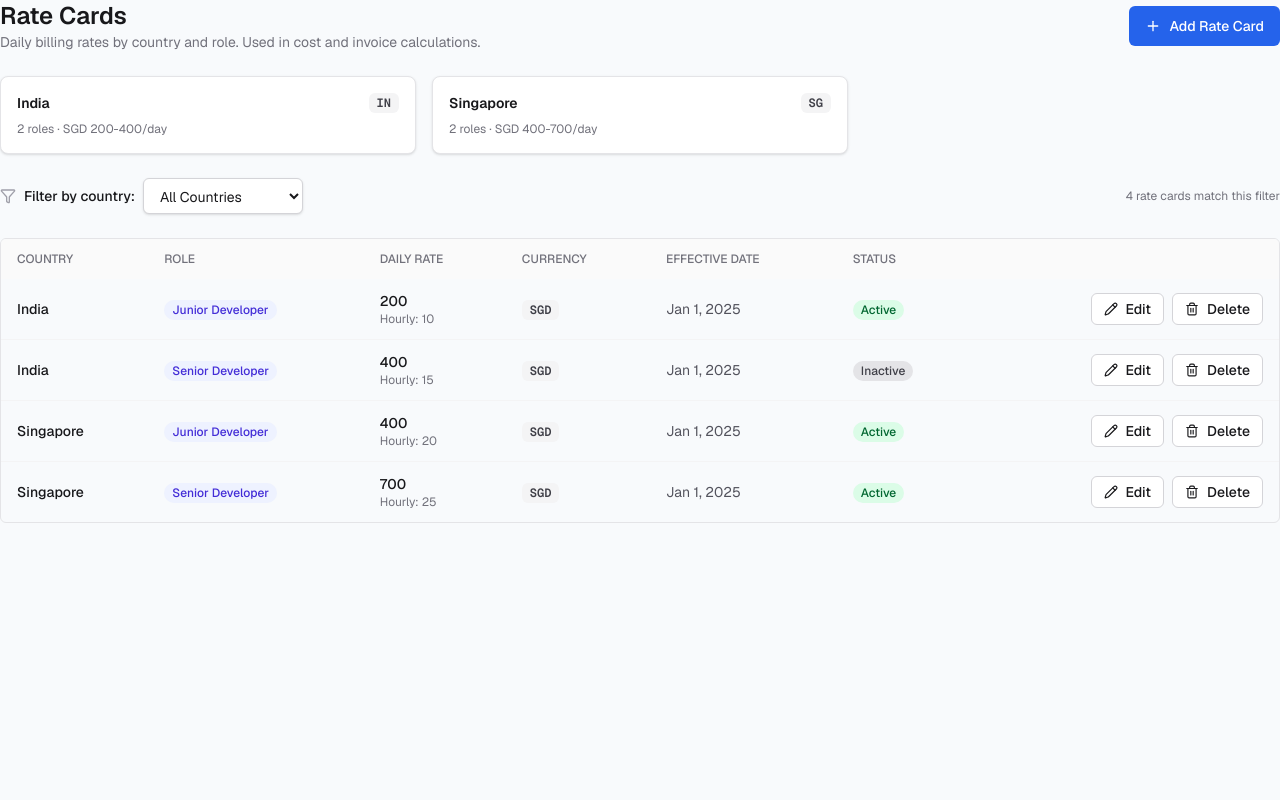
Test case: RateCardsTable › opens the Edit modal pre-filled for the clicked row
Expected: the text "2 roles · SGD 400-700/day" is shown, [449,121,597,137]
Click the button "Edit" in the row of "10": (1127, 309) [1091,293,1164,325]
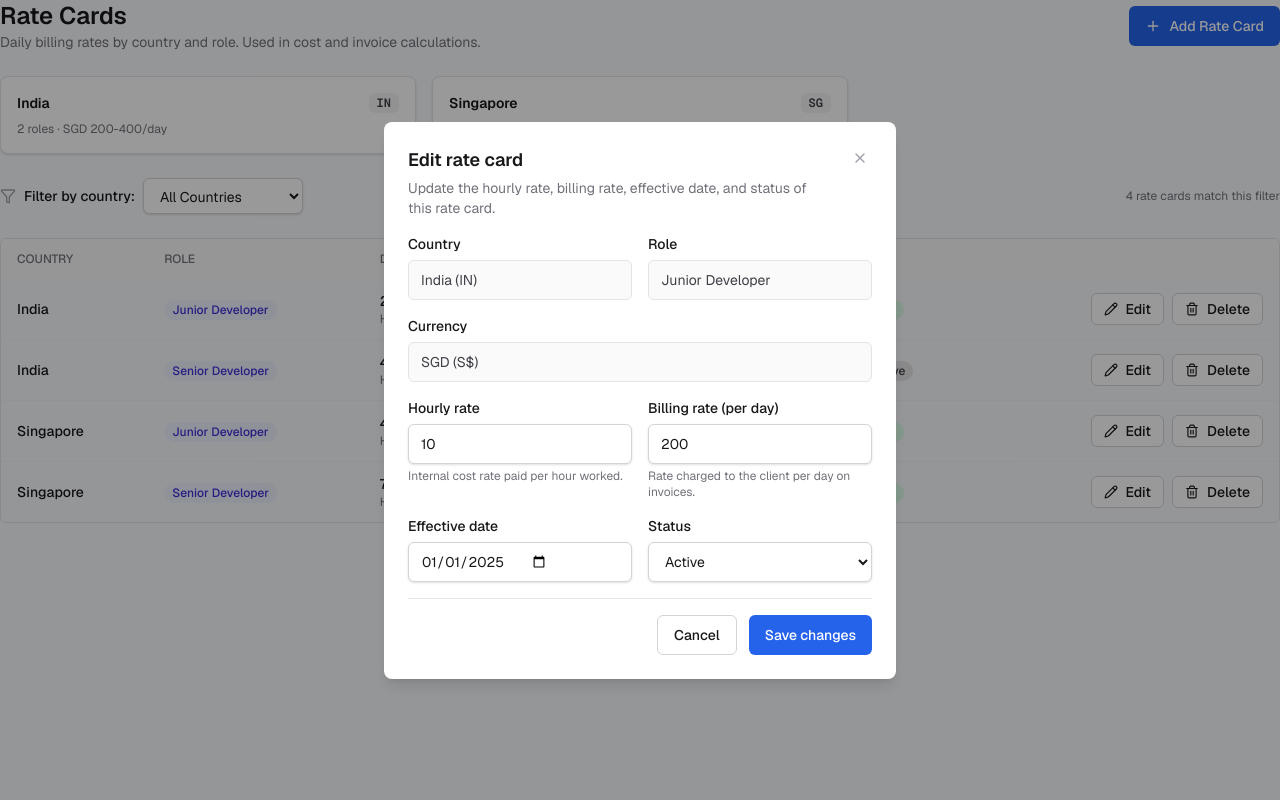
Result: the heading "Edit rate card" is shown at [408,148,523,170]
